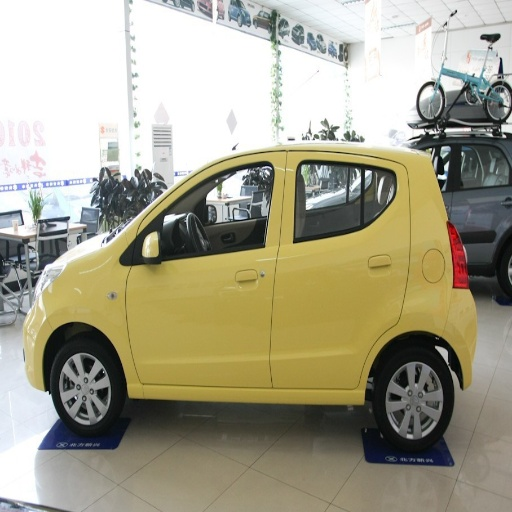back_left_door: (273, 156, 408, 388)
front_left_door: (127, 162, 294, 384)
